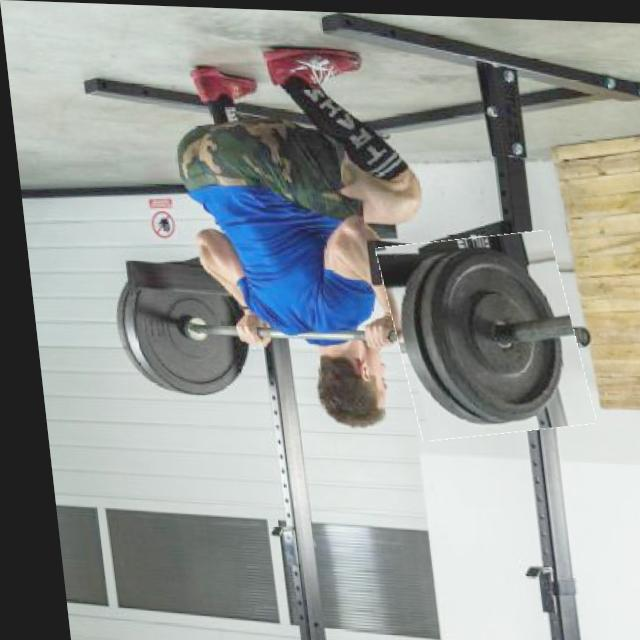barbell: (376, 227, 584, 438)
